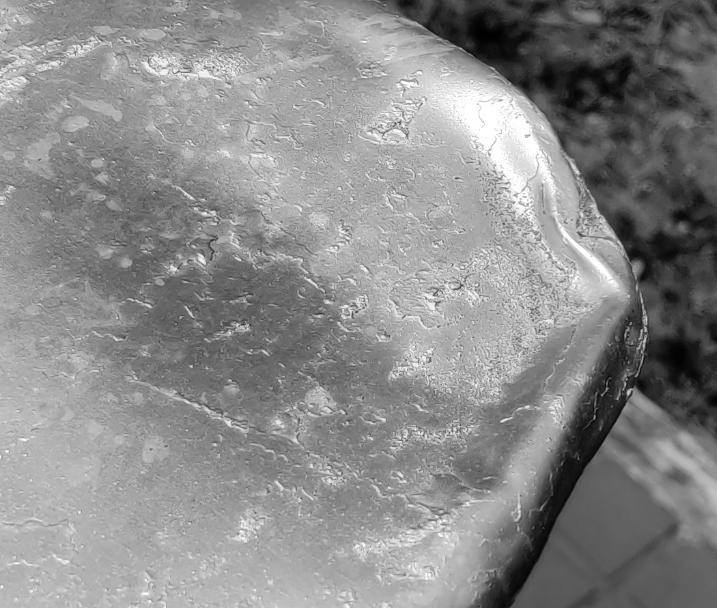dent: (1, 1, 717, 608)
